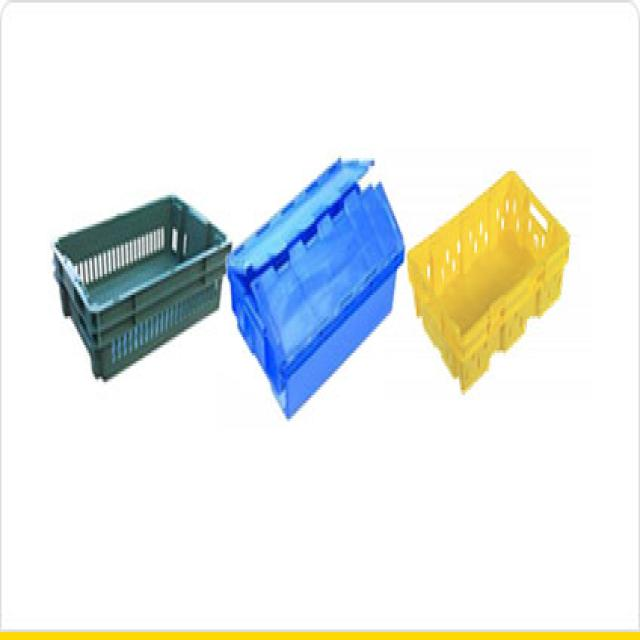basket: (178, 135, 457, 417), (370, 163, 600, 391), (23, 165, 257, 385)
